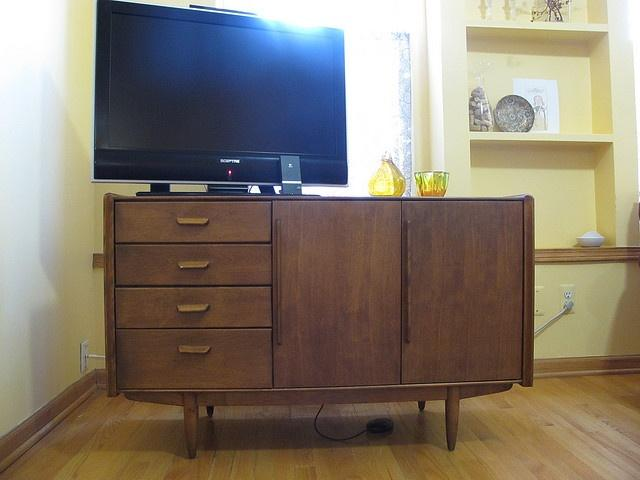AIO PC-Monitor-TV: (87, 0, 346, 195)
